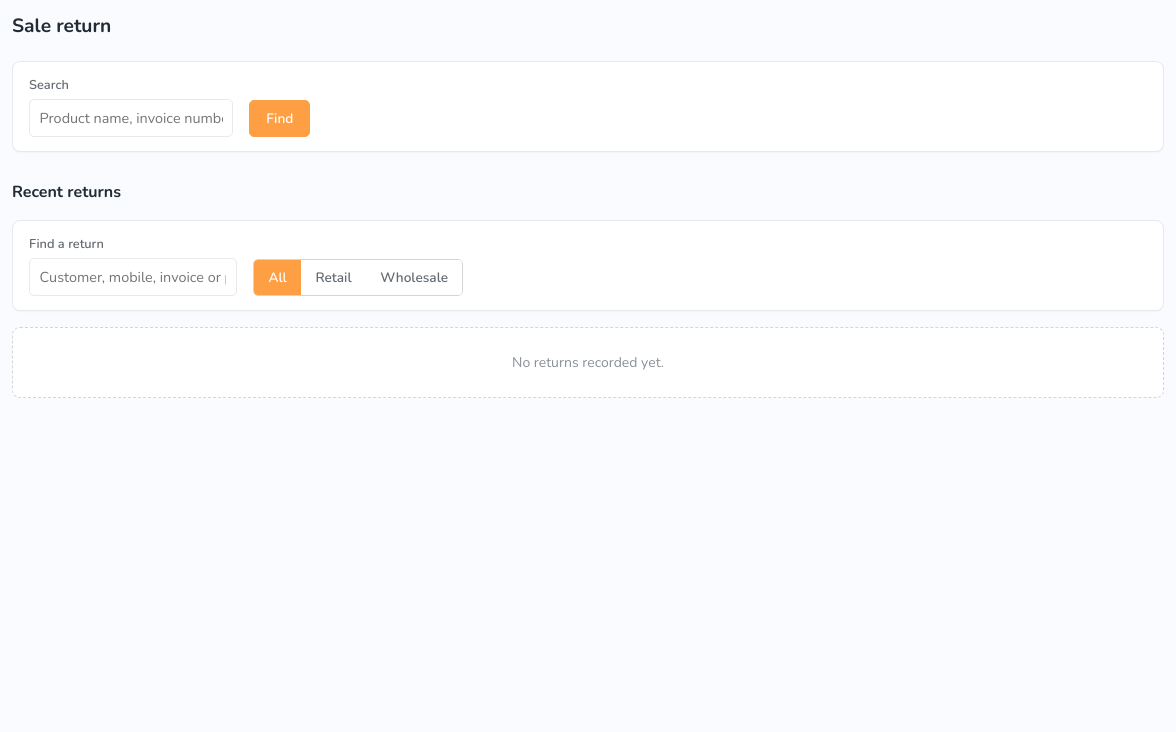
customer returns › finds a returnable sale by product name, invoice number, or mobile number in one box
Type "77" into the field labelled "Search". click: (131, 118)
box: [29,99,233,137]
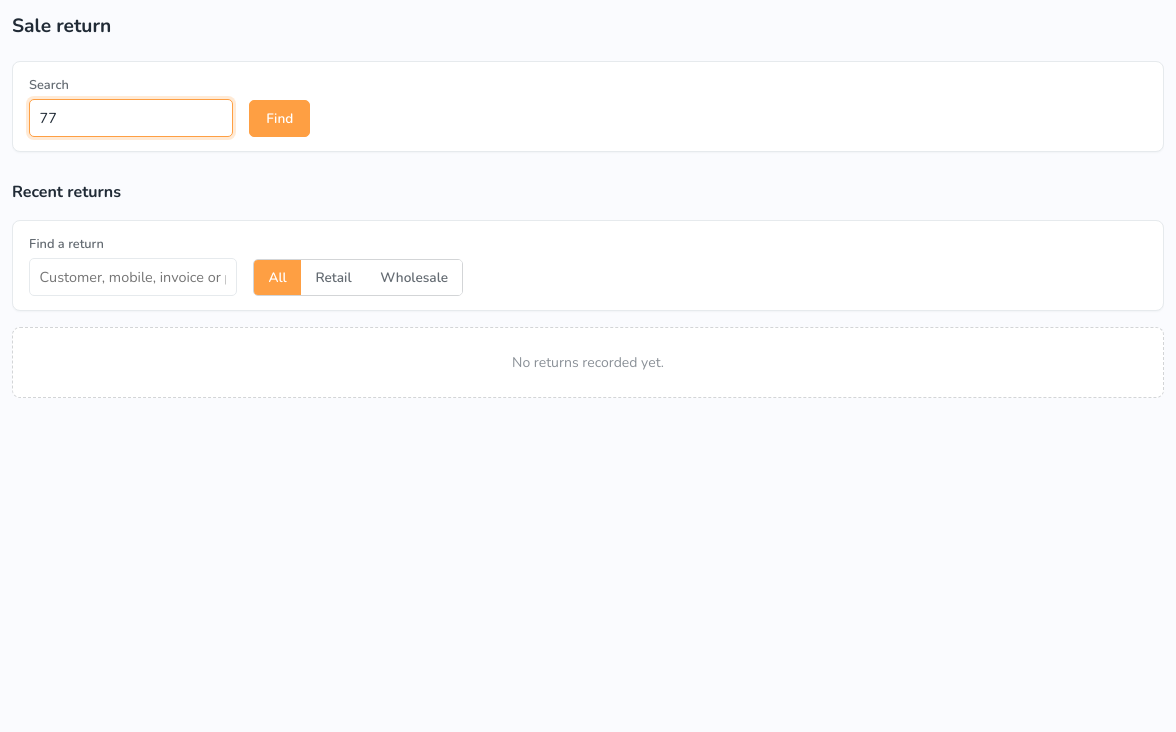
Click the button "Find". click: (280, 118)
box: [249,100,310,137]
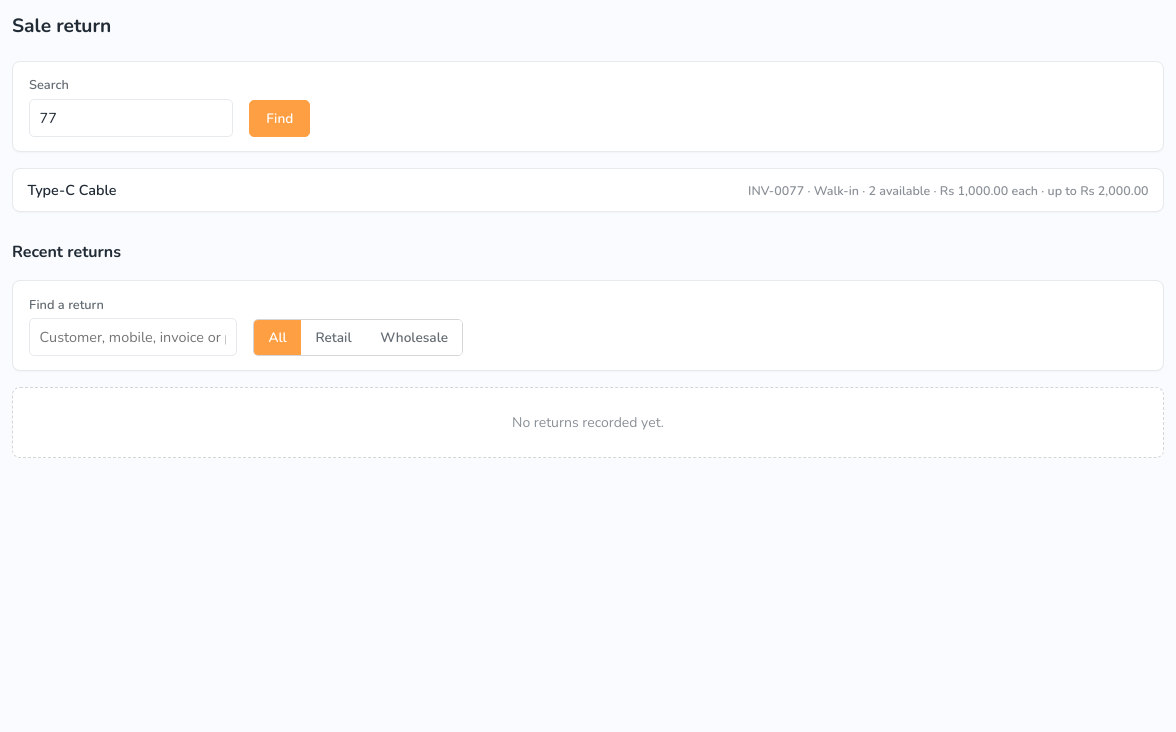
Click the button "Type-C Cable". click: (72, 190)
box: [13,169,1163,211]
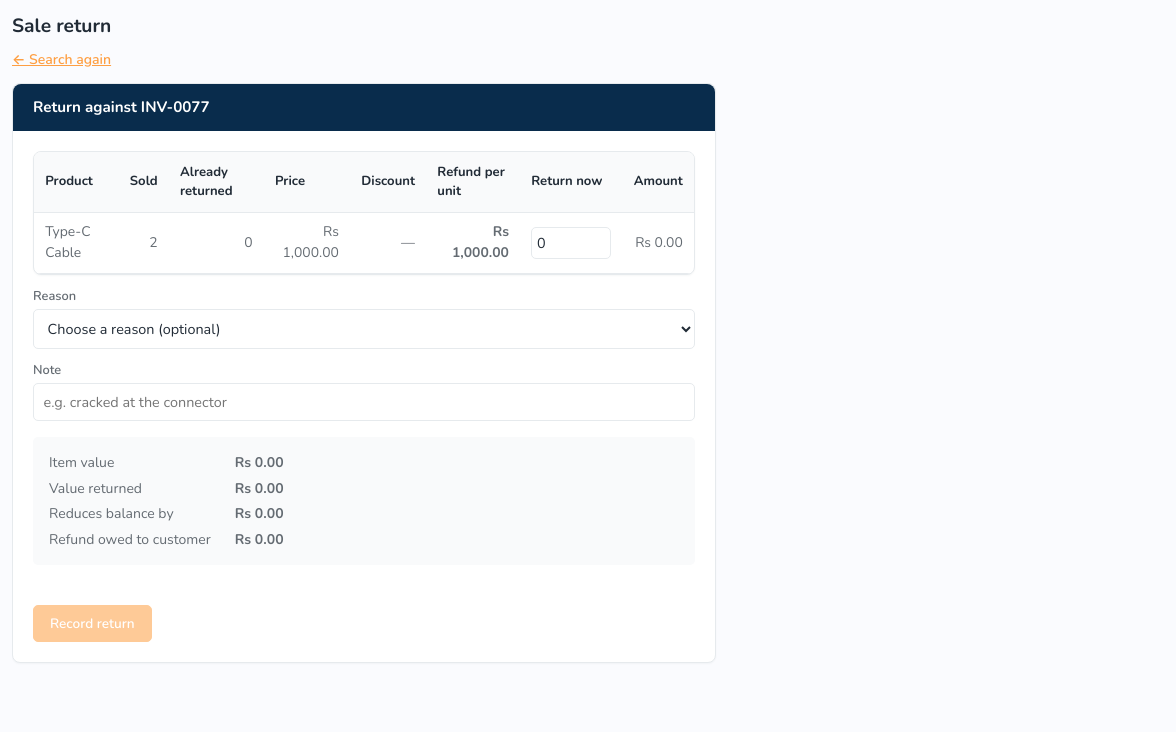
Result: the text "Type-C Cable" is shown at [34,213,119,274]
Result: the heading "Return against INV-0077" is shown at [13,84,715,131]
